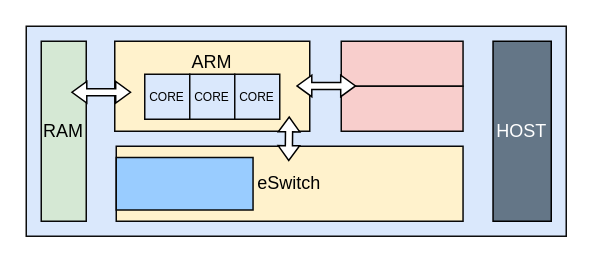
Image size: 593x263. Some labels were removed from this diagram. Here are the shapes that lost their labels. From the top down, the centre of each, then its label:
(x=401, y=63): GPUDirect
(x=401, y=108): Accelerator
(x=184, y=183): Receive Side Scaling (RSS)
